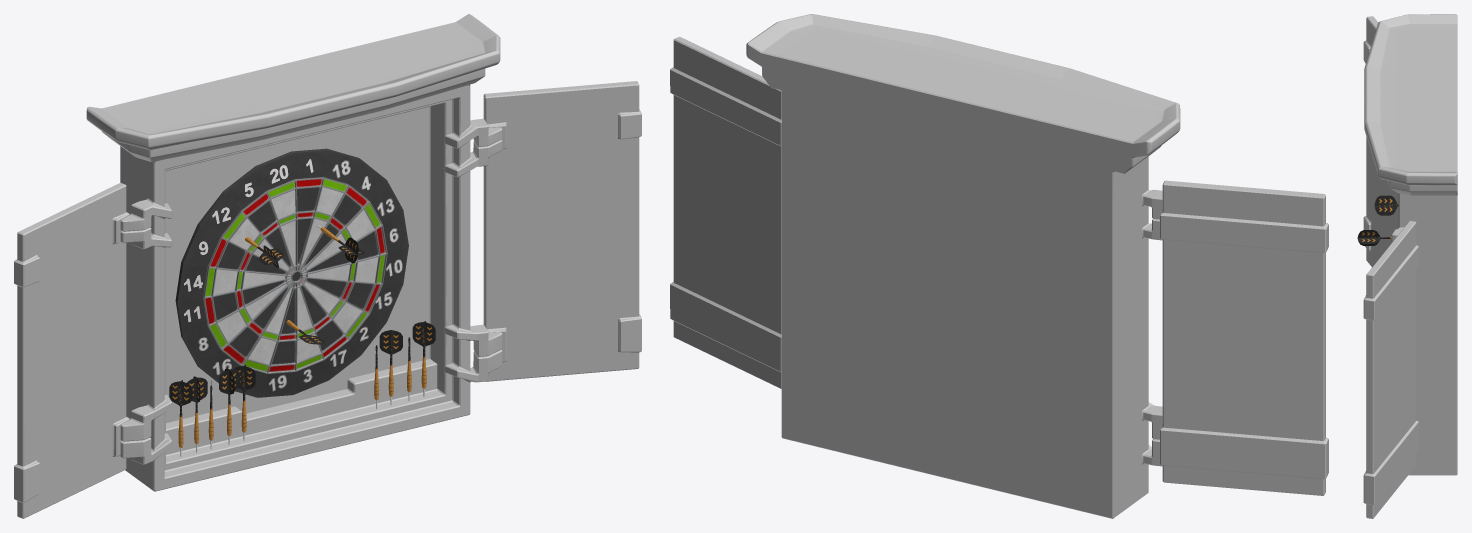
3 renders of one model, left to right at view 1: azimuth 30°, elevation 25°; view 2: azimuth 150°, elevation 25°; view 3: azimuth 270°, elevation 25°, orthographic. The views are drawn at different scales.
Parts seen in each view (by area): view 1: DartCabinet, DartBoard1; view 2: DartCabinet; view 3: DartCabinet, pPlane28, pPlane26.
Boxes of the visible parts, x1,y1,x2,y2 form: DartCabinet: [14, 14, 641, 518]; DartBoard1: [175, 148, 408, 397]; DartCabinet: [670, 14, 1328, 518]; DartCabinet: [1363, 14, 1457, 518]; pPlane28: [1374, 195, 1398, 215]; pPlane26: [1357, 230, 1391, 245].
Bounding box in the file's own units: 92.33 × 52 × 14.93.
